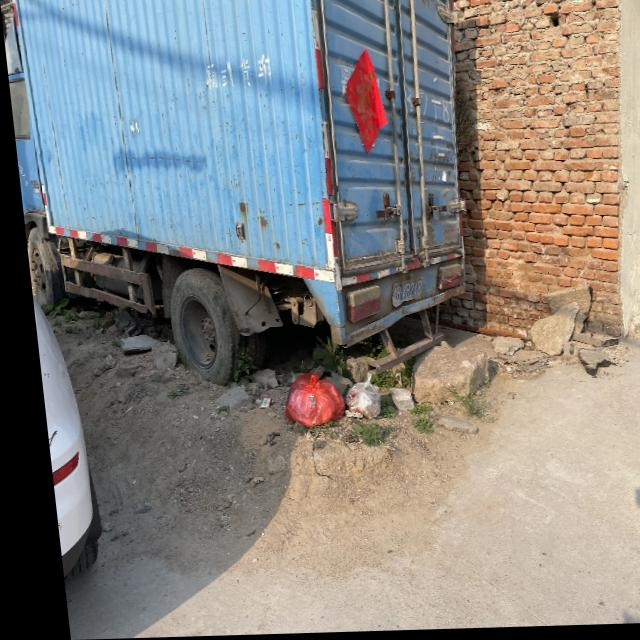garbage: (269, 371, 371, 427)
